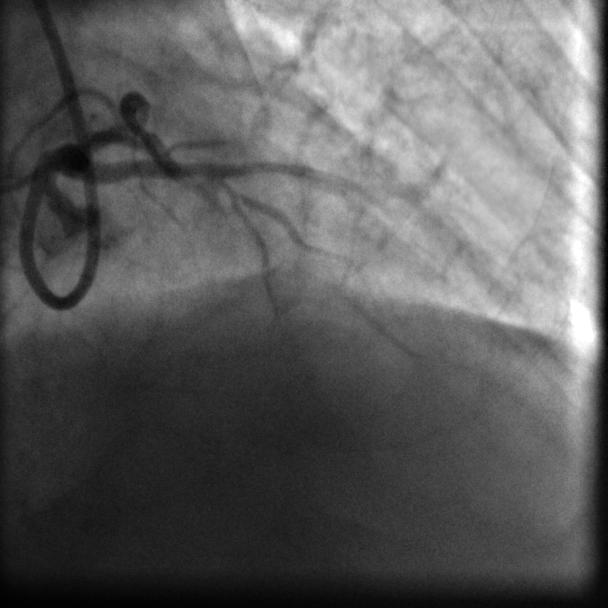Stenosis: (132, 113, 151, 148)
